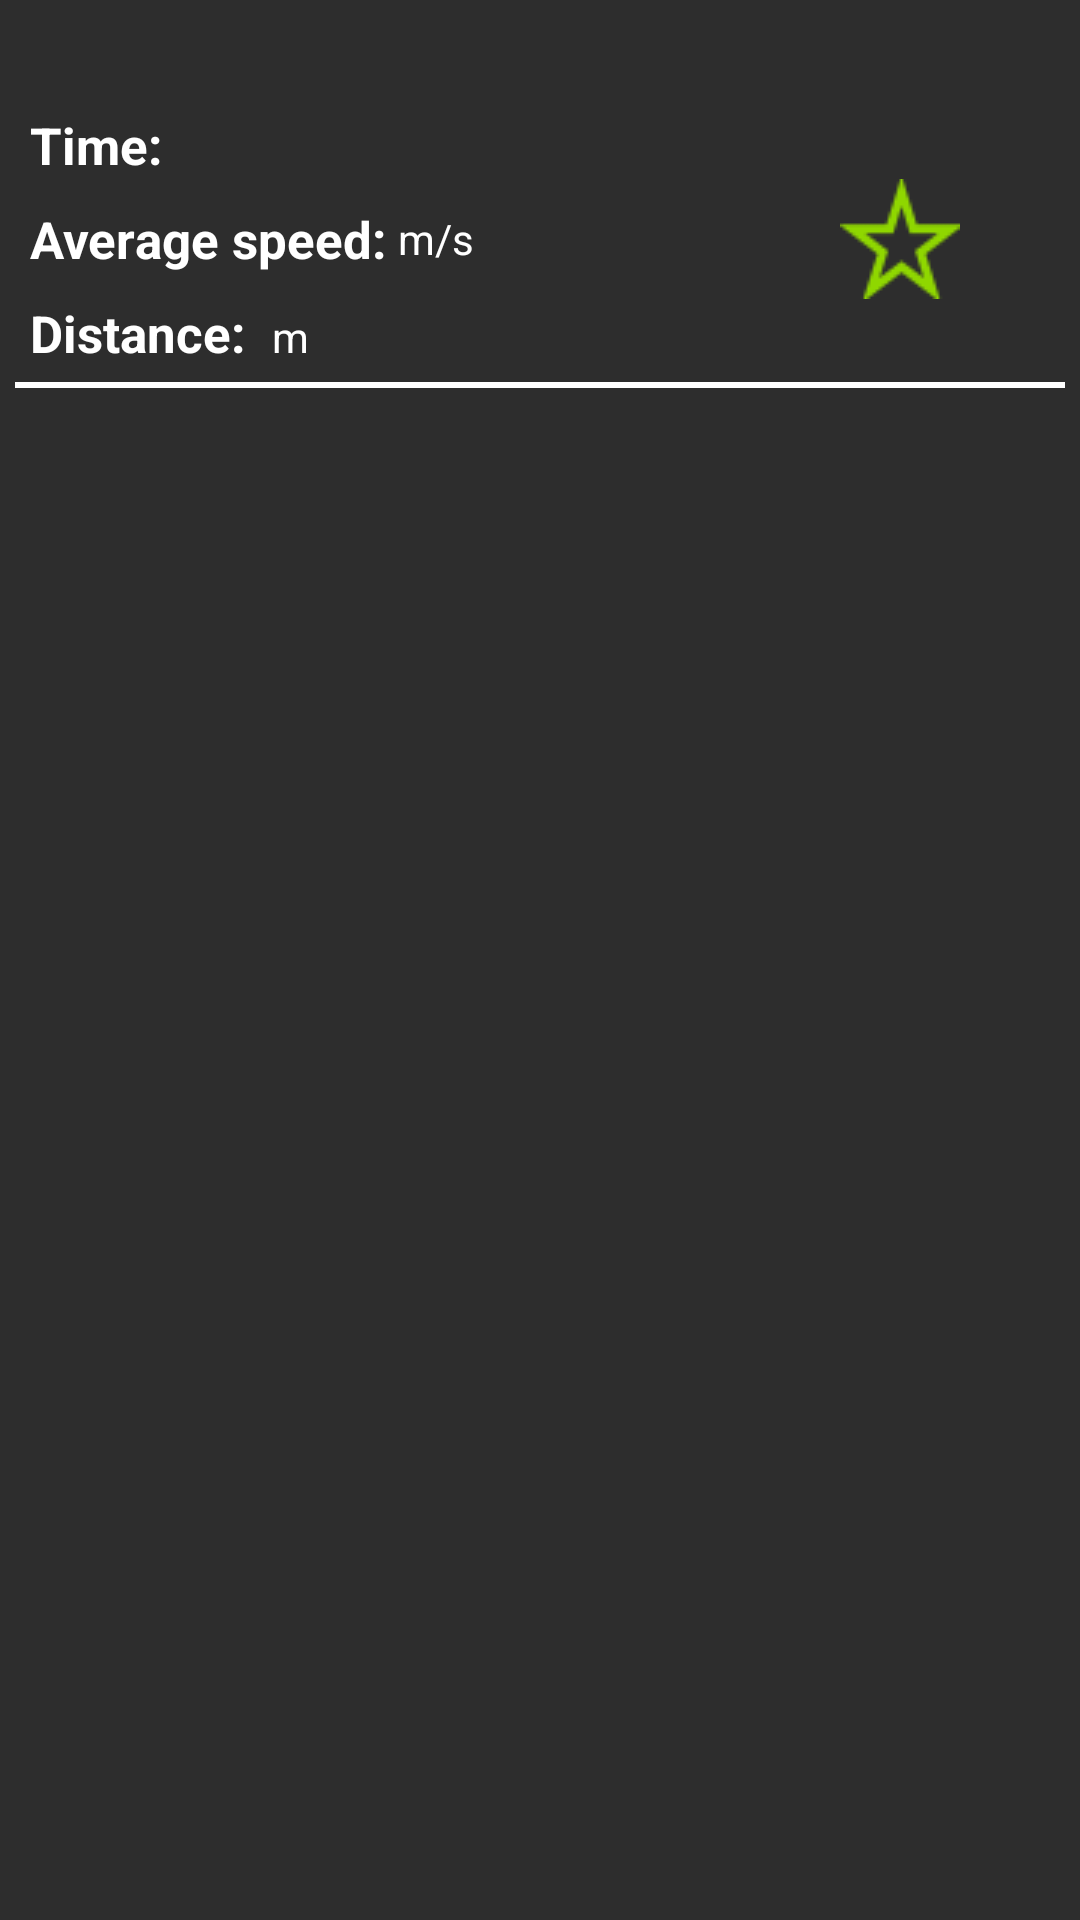

Where to tap for icons on this 1080px x 1920px app screen, as point (x, y):
Favorite button: point (900, 239)
